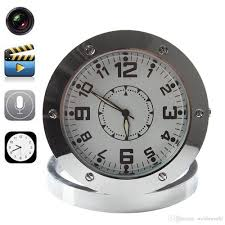alarm_clock: (43, 27, 211, 215), (49, 27, 211, 215)
